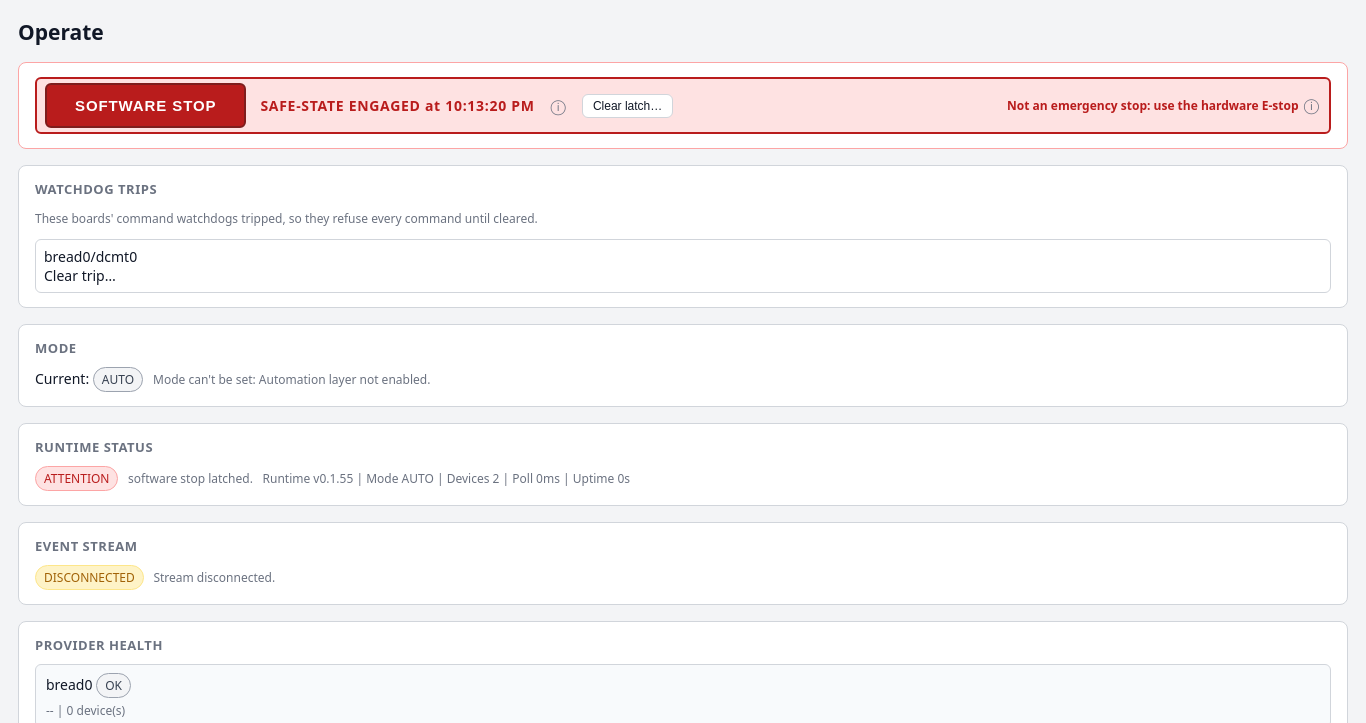
Test: Operate.svelte — a guided clear for watchdog-tripped boards (wb#572) › skips MANUAL when the runtime has no automation layer, and never posts a mode
Click the button with aria-label "Clear the watchdog trip on bread0/dcmt0…" at point(80, 276), box left=44, top=266, right=1322, bottom=285
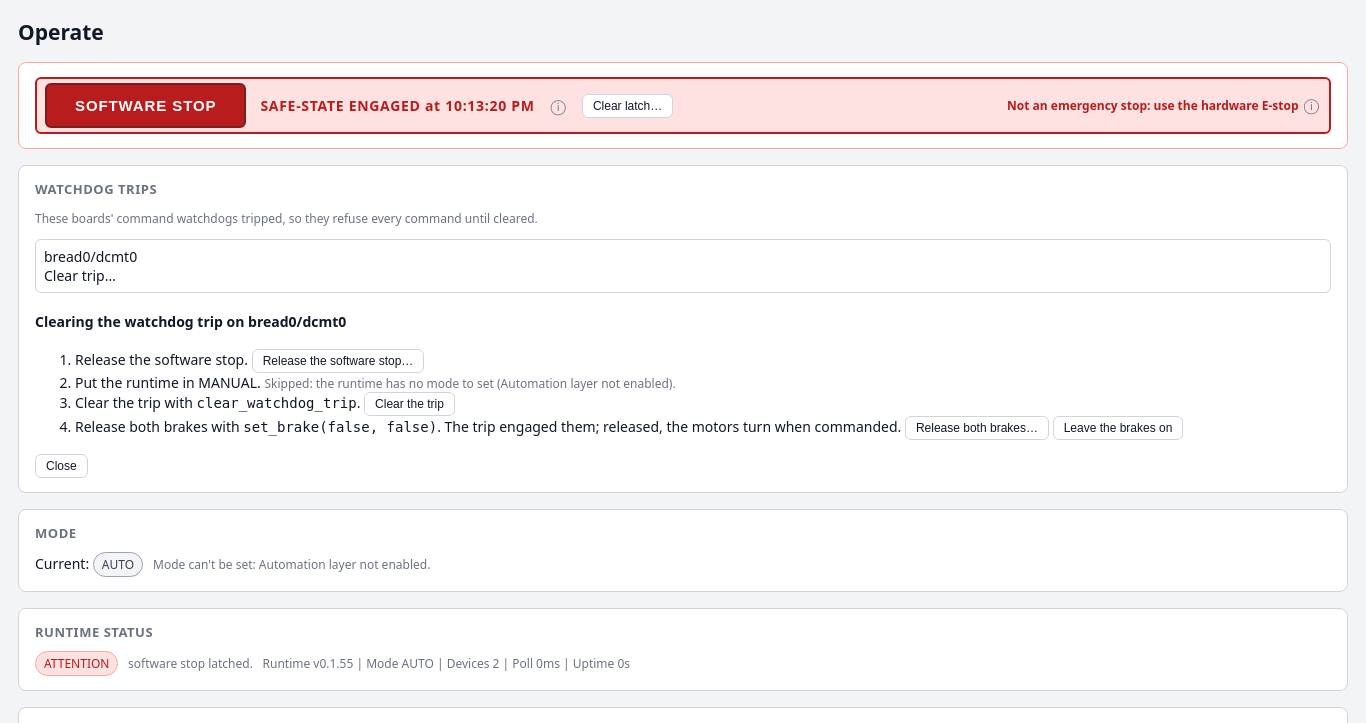
Result: the list item with test id "trip-step-2" shows "Skipped" at left=264, top=375, right=676, bottom=392
Result: the list item with test id "trip-step-2" shows "Automation layer not enabled" at left=264, top=375, right=676, bottom=392
Result: the button "Clear the trip" is disabled at left=364, top=392, right=455, bottom=416
Click the button "Release the software stop…" at point(338, 361), box left=252, top=349, right=424, bottom=373
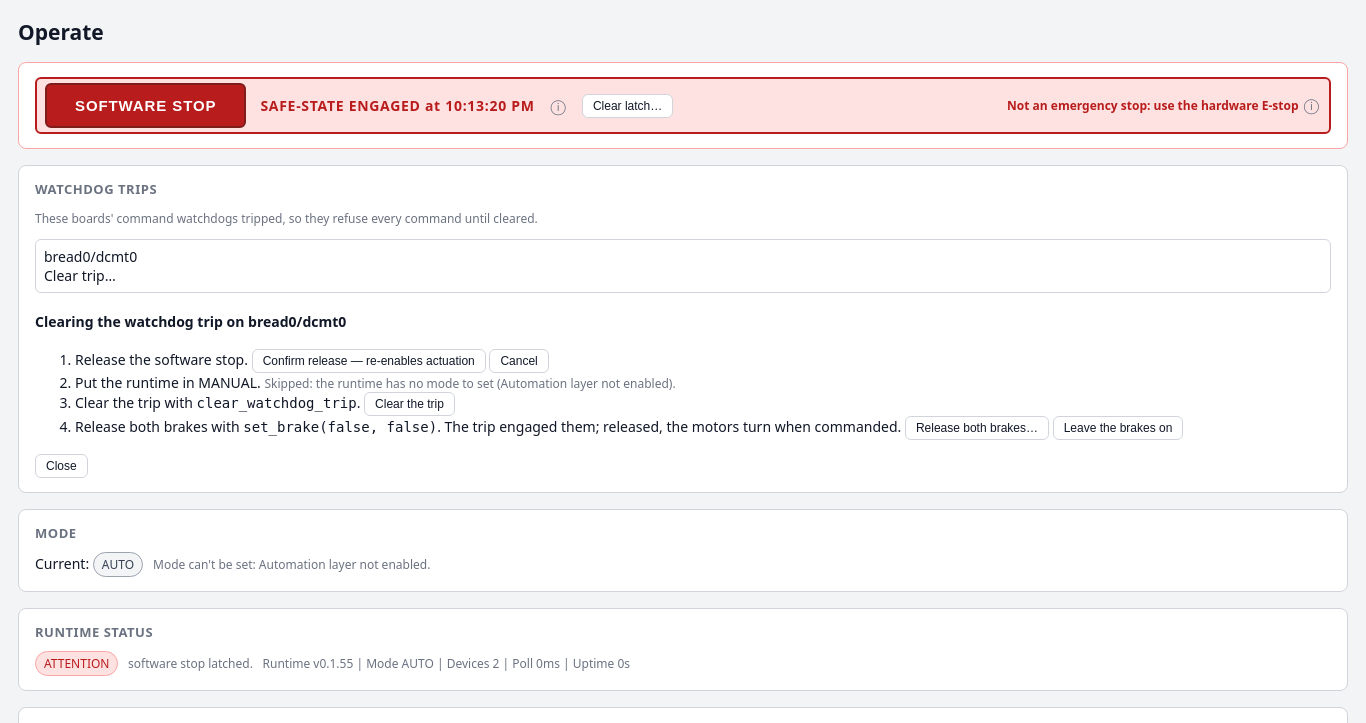
Result: the button "Confirm release — re-enables actuation" is enabled
Click the button "Confirm release — re-enables actuation" at point(369, 361), box left=252, top=349, right=486, bottom=373
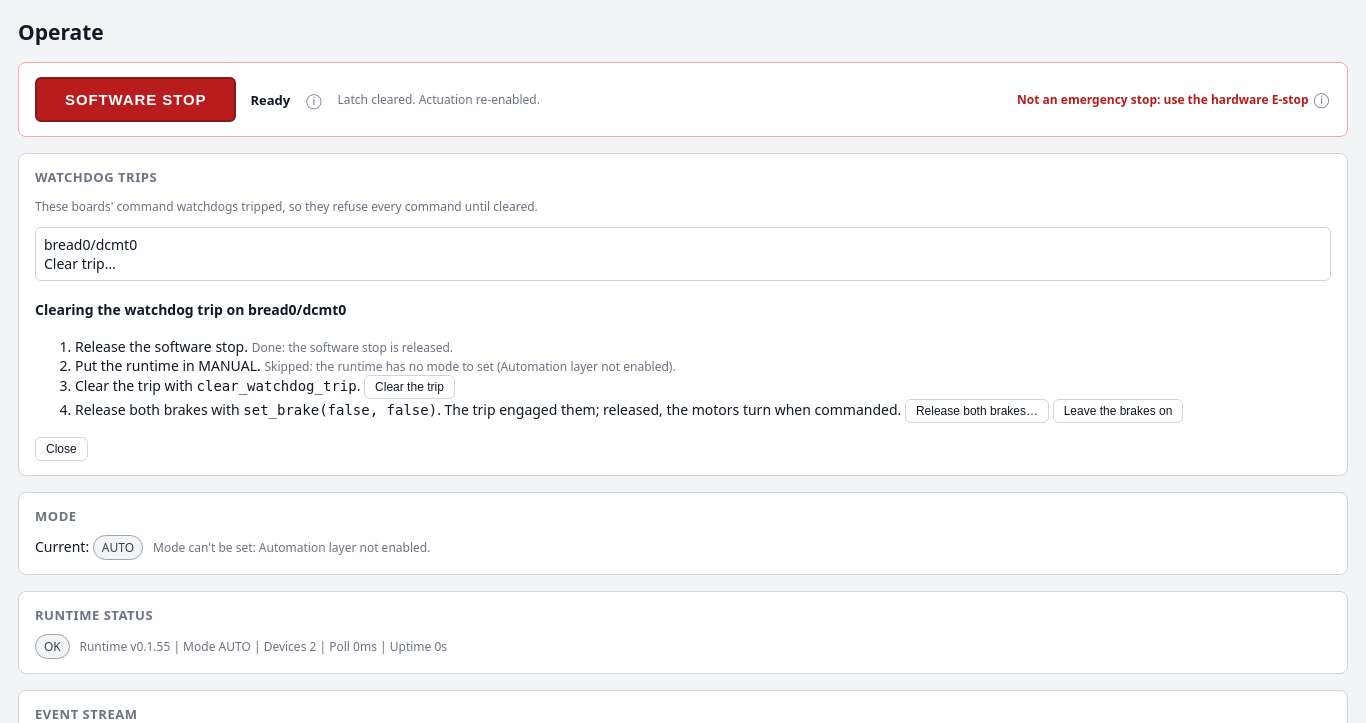
Result: the button "Clear the trip" is enabled
Click the button "Clear the trip" at point(409, 387), box left=364, top=375, right=455, bottom=399
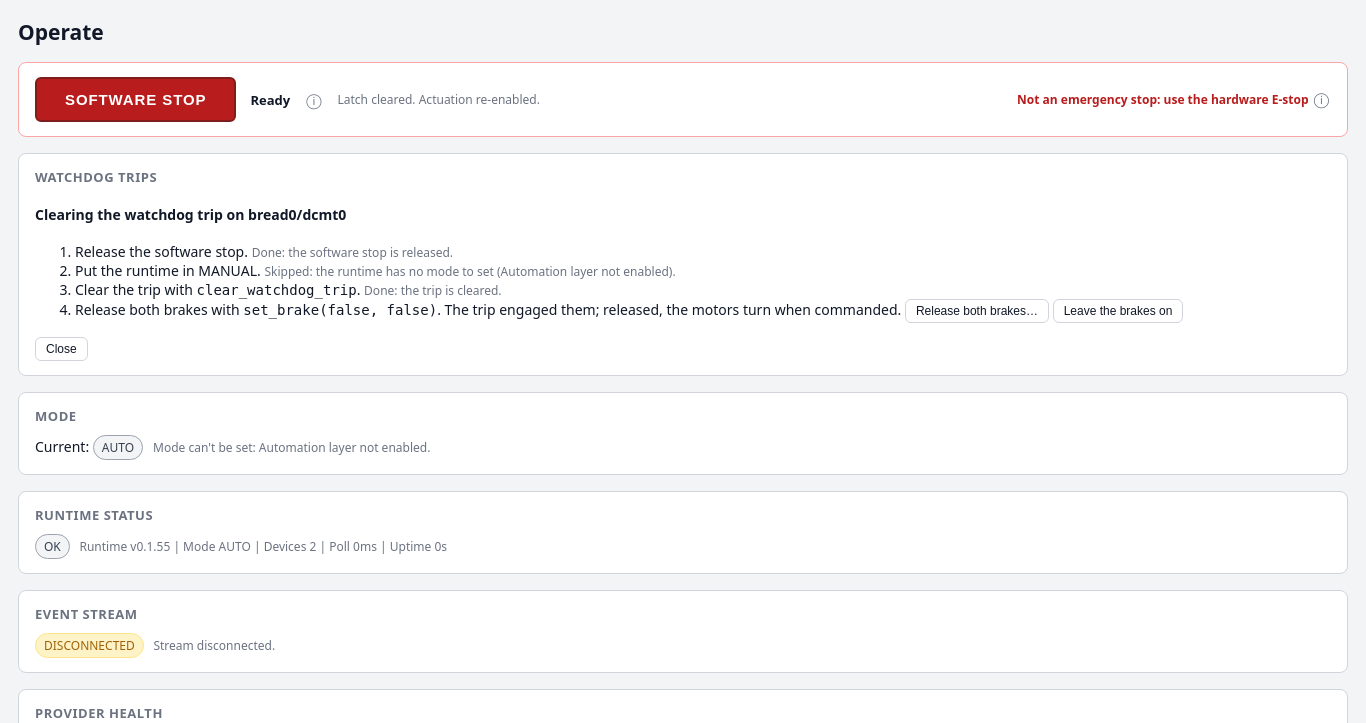
Result: the list item with test id "trip-step-3" shows "Done" at left=364, top=282, right=502, bottom=299
